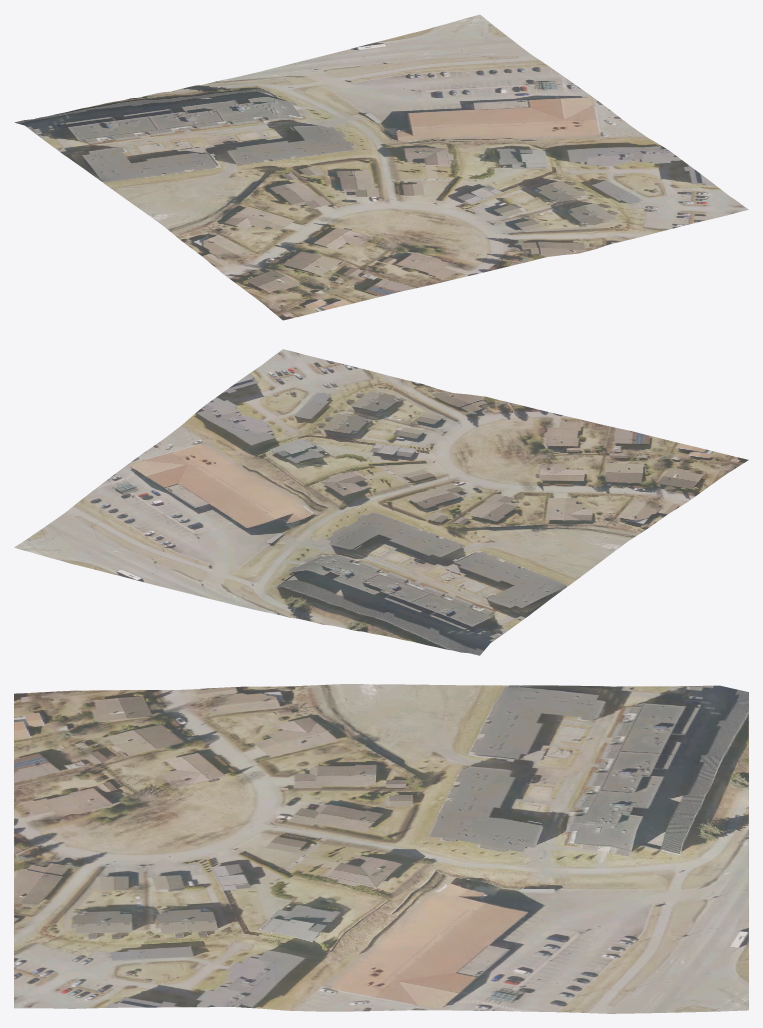
Rendered from CM_Terrain_24491482_6820204.fbx.
3 views of the same model, one above another, from view 1: azimuth 30°, elevation 25°; view 2: azimuth 150°, elevation 25°; view 3: azimuth 270°, elevation 25° (orthographic). The views are drawn at different scales.
Visible parts, largest first — view 1: CM_Terrain_24491482_6820204_LOD0; view 2: CM_Terrain_24491482_6820204_LOD0; view 3: CM_Terrain_24491482_6820204_LOD0.
Part boxes in pixels (bbox=[...]): CM_Terrain_24491482_6820204_LOD0: bbox=[14, 14, 748, 320]; CM_Terrain_24491482_6820204_LOD0: bbox=[14, 349, 748, 655]; CM_Terrain_24491482_6820204_LOD0: bbox=[14, 684, 748, 1013].
Size of what is drawn, in the model's own units: 205 by 6.35 by 205.
